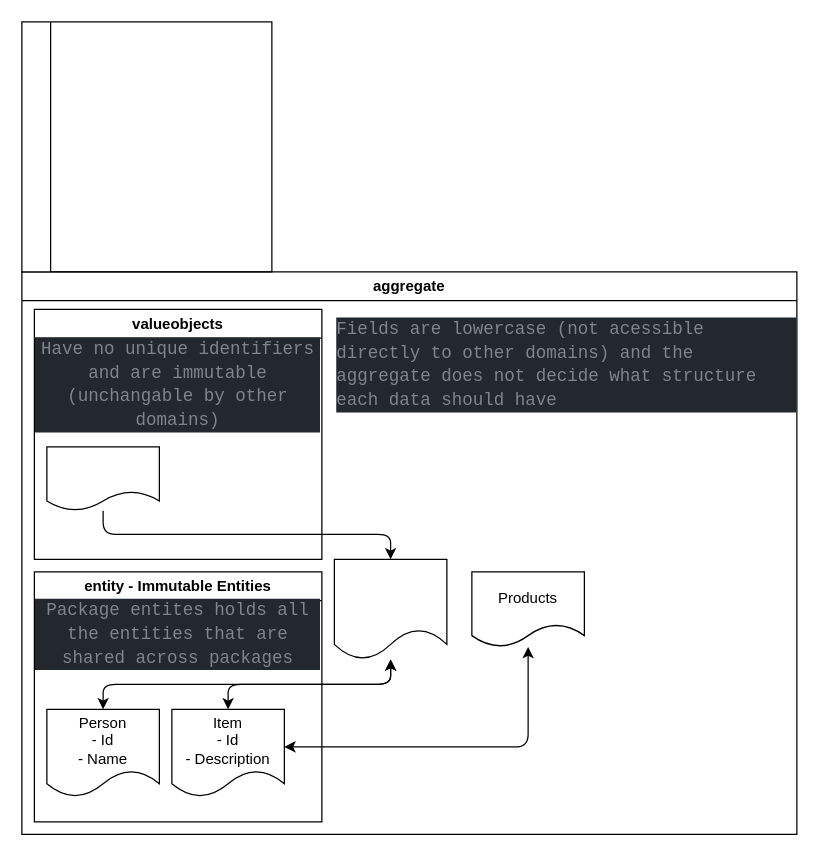
The diagram is 819 pixels wide and 856 high, and some of its shapes have lost their labels. The centre of each missing label's shape, as x and y in pixels:
Customer - id = Person.Id - transactions: pixel 390 608
Factory Design Pattern: pixel 146 146
Transaction - amount: pixel 102 478
